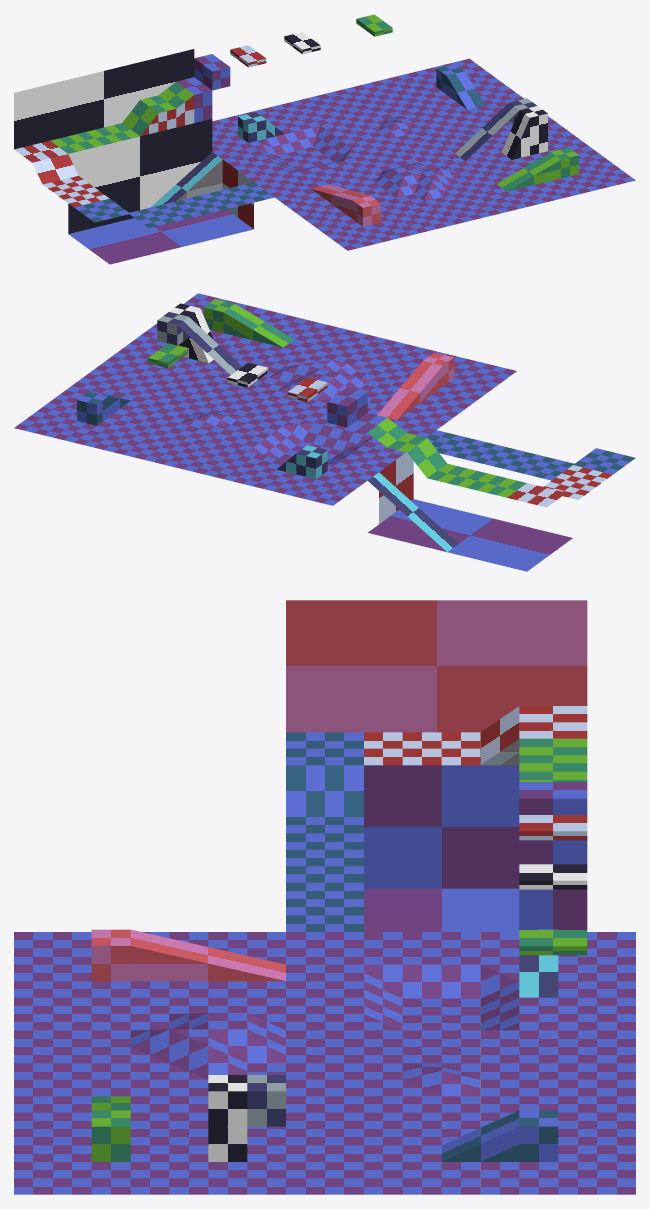
3 renders of one model, top to bottom at view 1: azimuth 30°, elevation 25°; view 2: azimuth 150°, elevation 25°; view 3: azimuth 270°, elevation 25°, orthographic. The views are drawn at different scales.
Bounding box in the file's own units: 52 × 14.5 × 32.
1 material, 1 textured.
